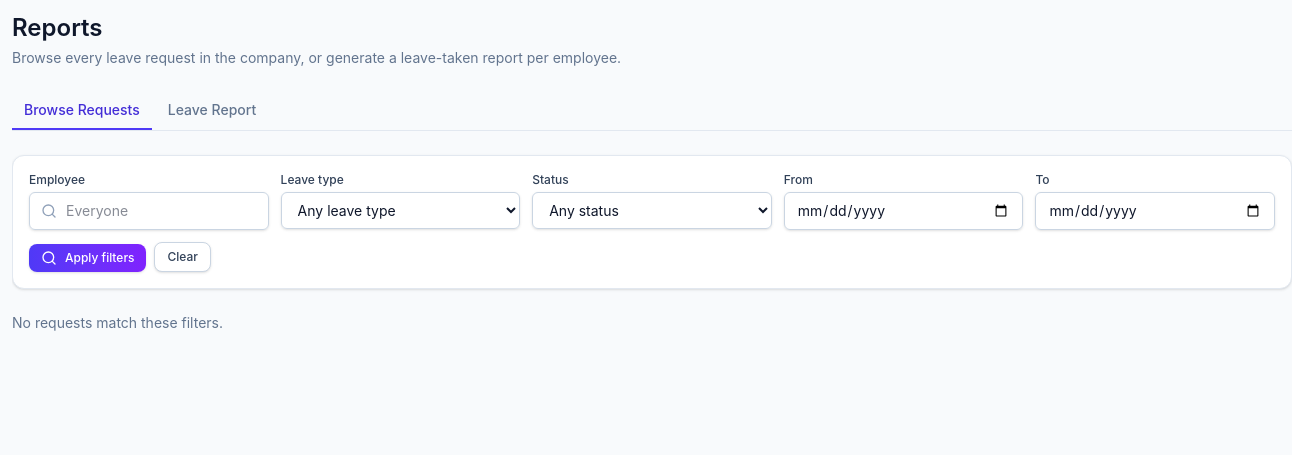
Test: HrReportsPage › Leave Report tab › resets the period and results when Clear is clicked
The image size is (1292, 455).
Click the tab "Leave Report" at (212, 111), box [156,92,268,130]
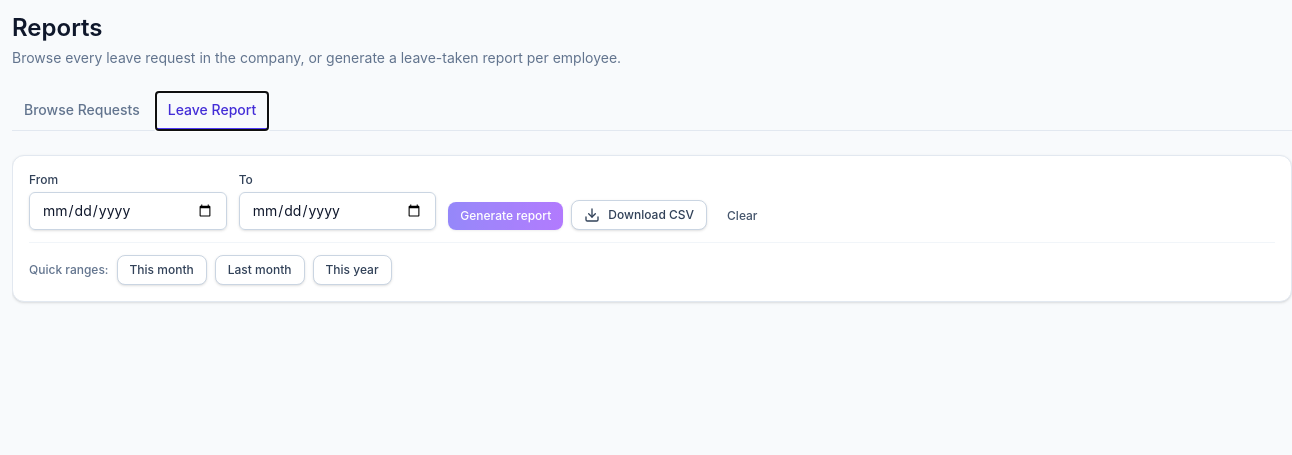
Type "2031-01-01" into the date field labelled "From" at (128, 211), box [29,192,227,230]
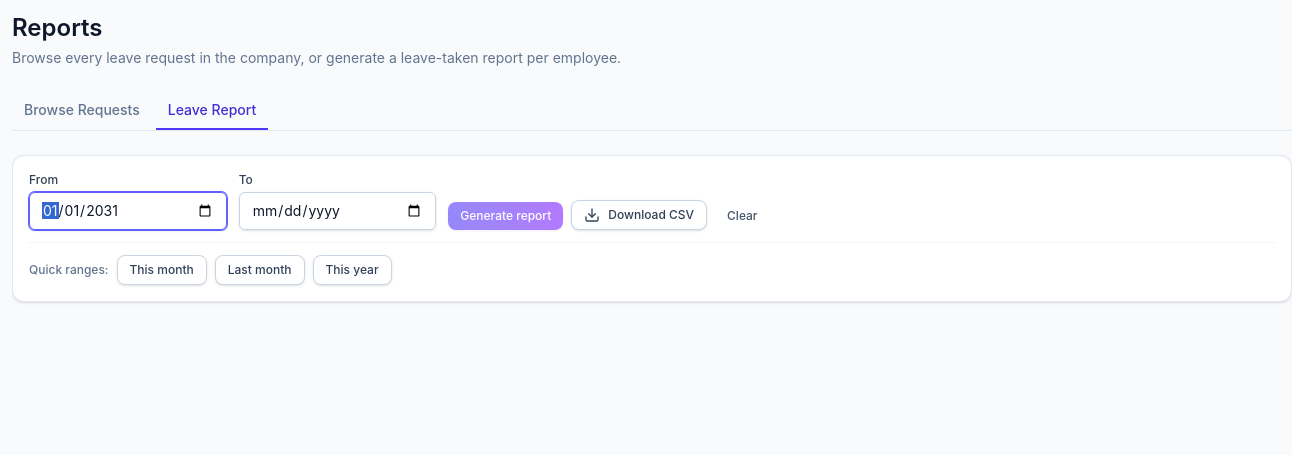
Type "2031-01-31" into the date field labelled "To" at (338, 211), box [239,192,436,230]
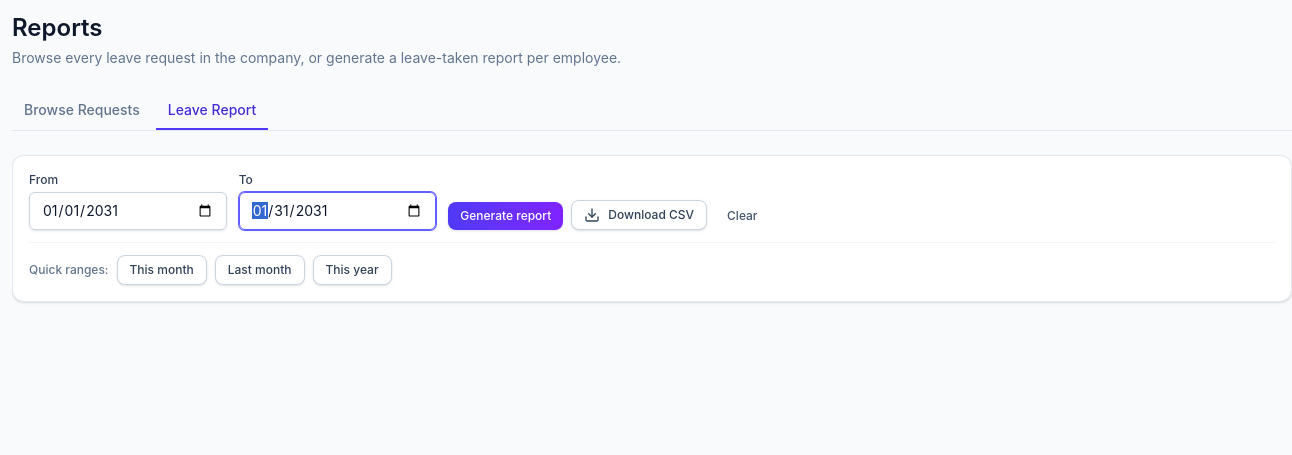
Click the button "Generate report" at (506, 216), box [448,202,563,230]
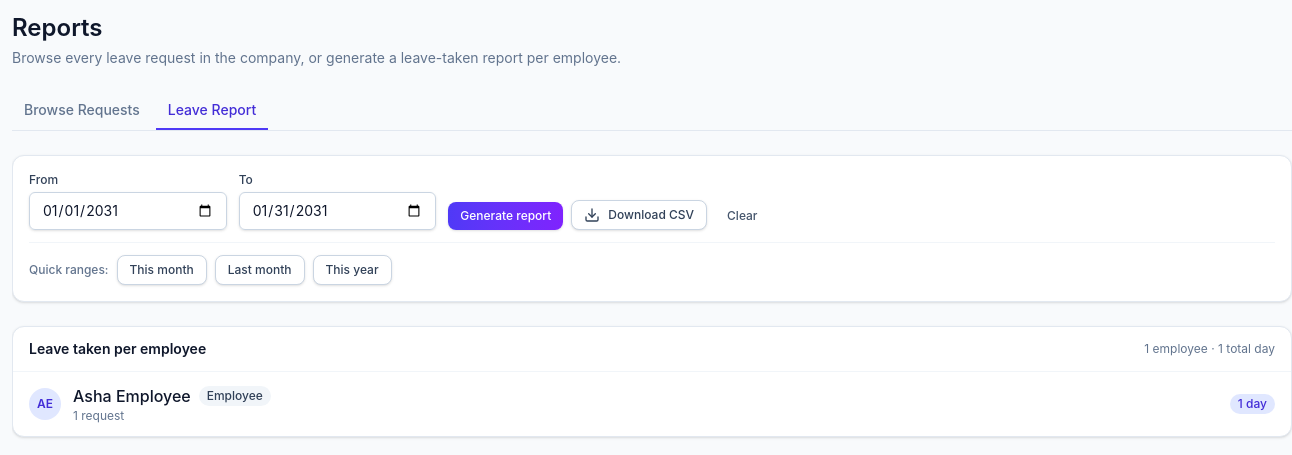
expect the text "Asha Employee" is shown: met, box [73,384,191,408]
Click the button "Clear" at (742, 216), box [715,202,770,230]
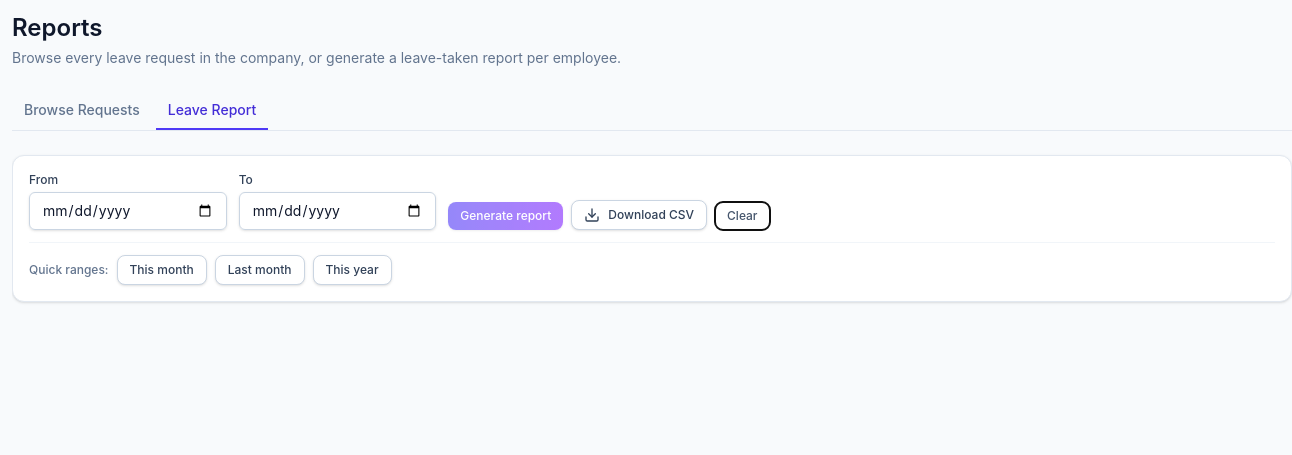
expect the date field labelled "From" is empty: met, box [29,192,227,230]
expect the text "Asha Employee" is gone: met
